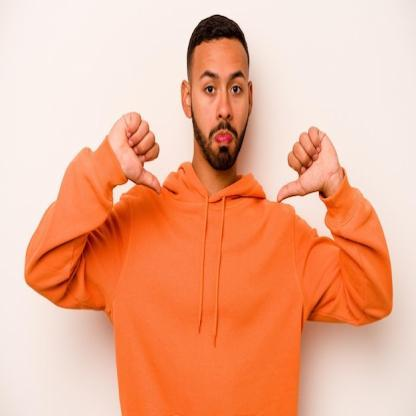thumb_down: (275, 123, 343, 207), (107, 106, 165, 198)
